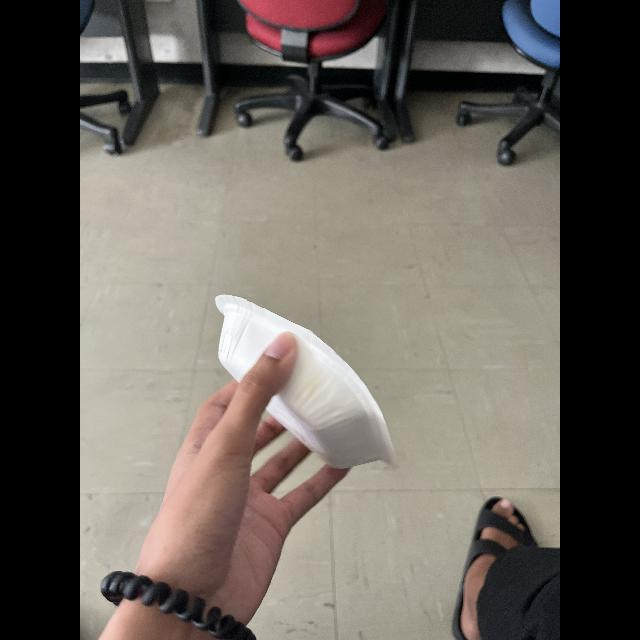cardboard_bowl: (206, 288, 400, 484)
